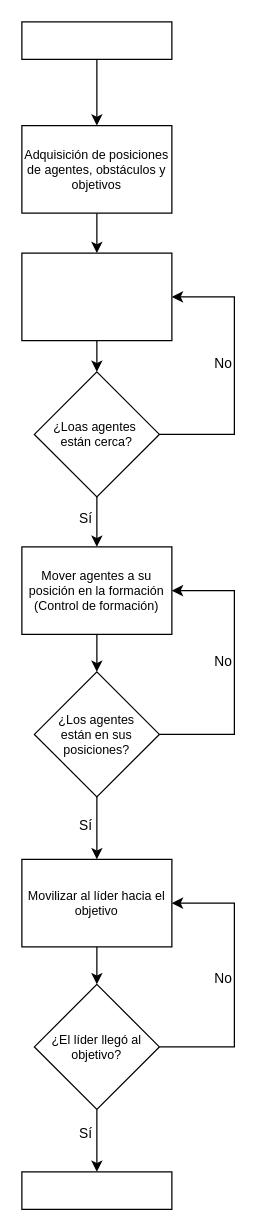
This 266x1231 diagram has some shape labels left out. Each missing label, with the centre of its shape:
Acercar agentes según la función de consenso: point (96, 296)
FIN: point (96, 1190)
INICIO: point (96, 40)
